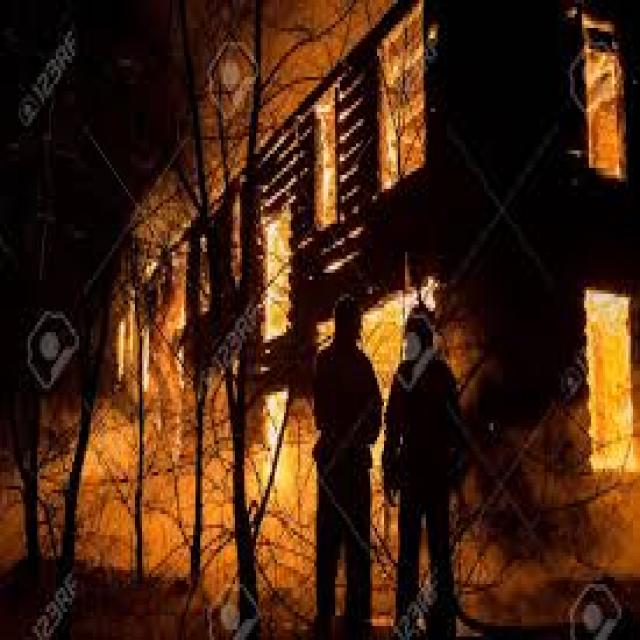Fire: (115, 127, 640, 527)
